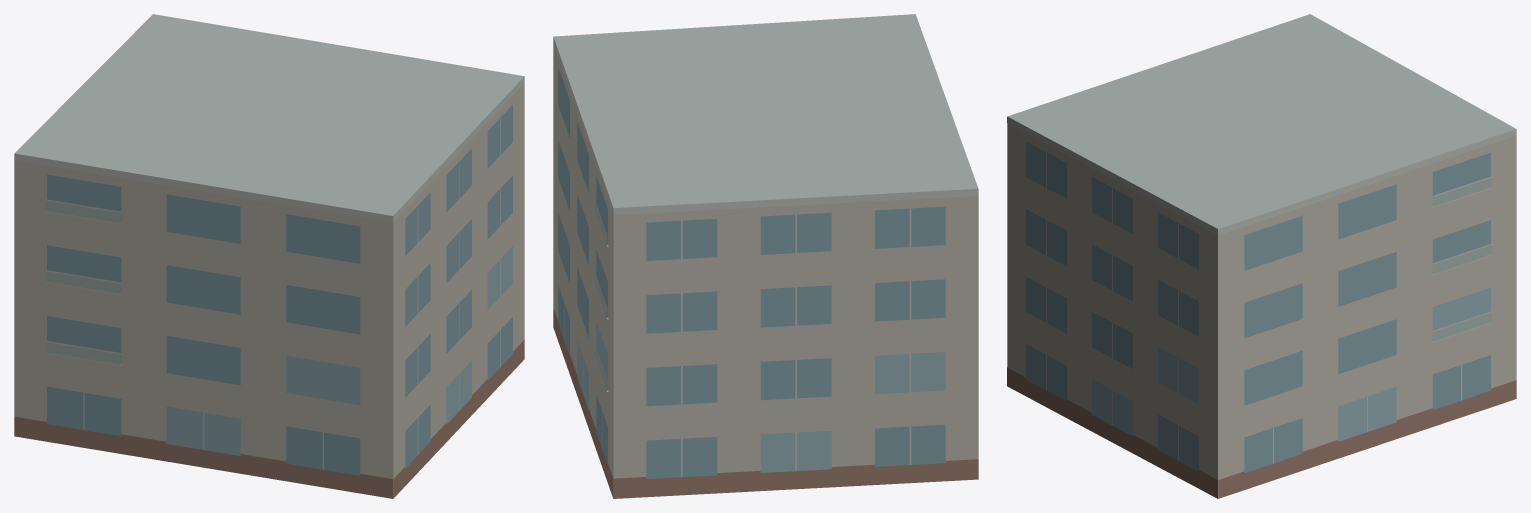
Rendered from survey-upis-32954466.glb.
3 views of the same model, side by side, from view 1: azimuth 30°, elevation 25°; view 2: azimuth 150°, elevation 25°; view 3: azimuth 270°, elevation 25° (orthographic). The views are drawn at different scales.
Visible parts, largest first — view 1: survey-upis-32954466.tmp; view 2: survey-upis-32954466.tmp; view 3: survey-upis-32954466.tmp.
Part boxes in pixels (left/top/right/bottom): survey-upis-32954466.tmp: left=14, top=14, right=524, bottom=498; survey-upis-32954466.tmp: left=553, top=14, right=978, bottom=498; survey-upis-32954466.tmp: left=1007, top=14, right=1516, bottom=498.
Size of the model in its own units: 17.27 by 10.1 by 17.29.
